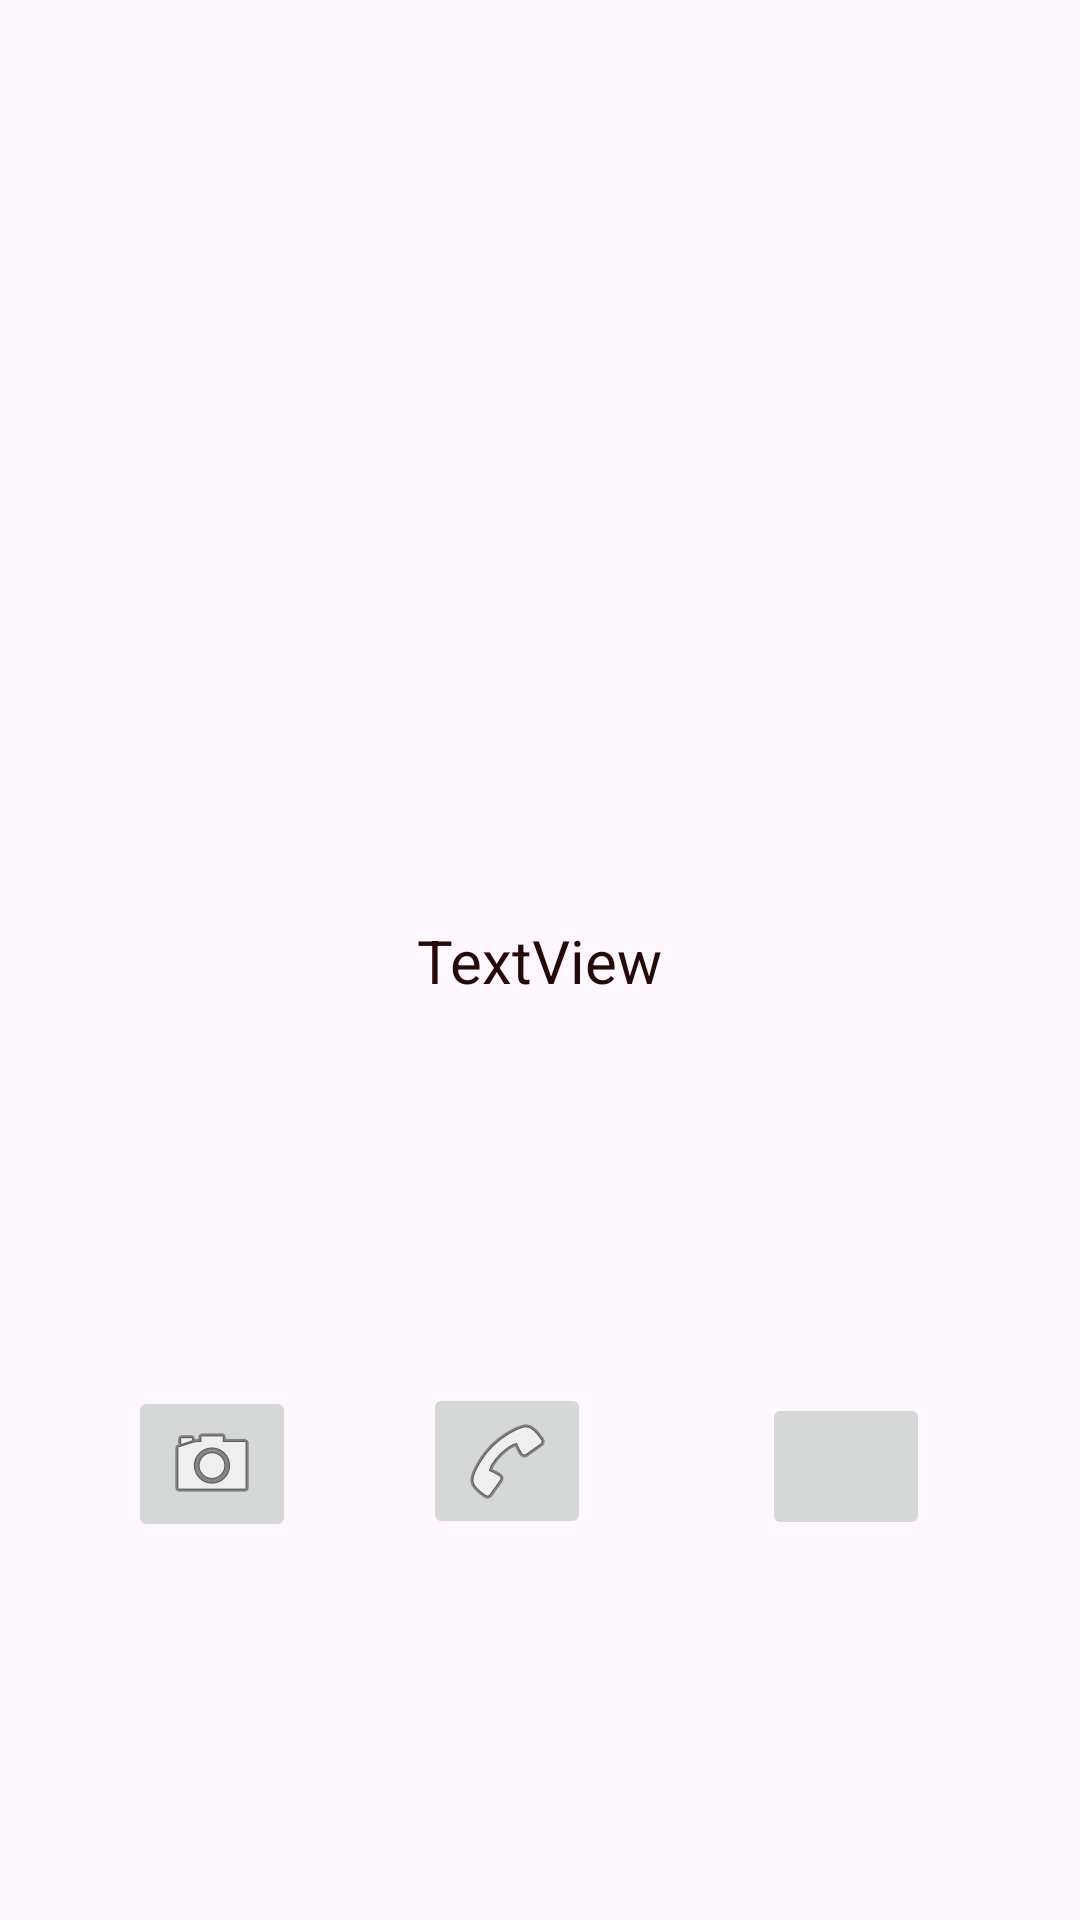

Where to tap for icons on this 1080px×1920px app screen, as (x,y):
call: (507,1461)
camera: (212,1464)
